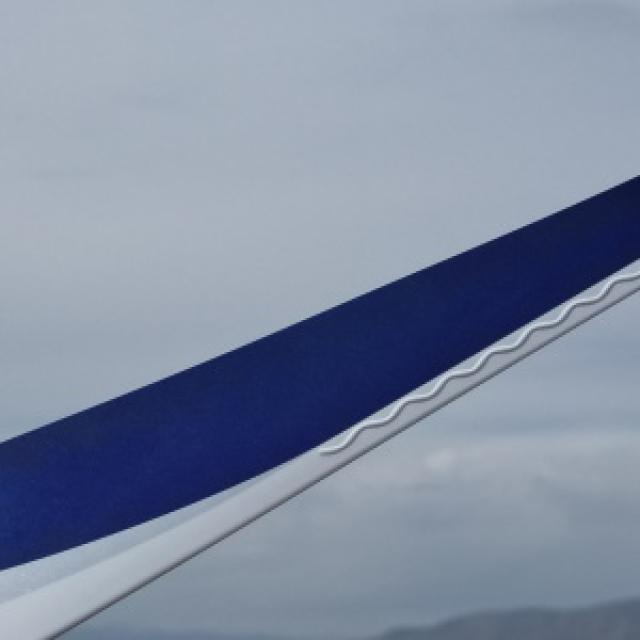healthy: (0, 177, 638, 638), (58, 292, 638, 638)
